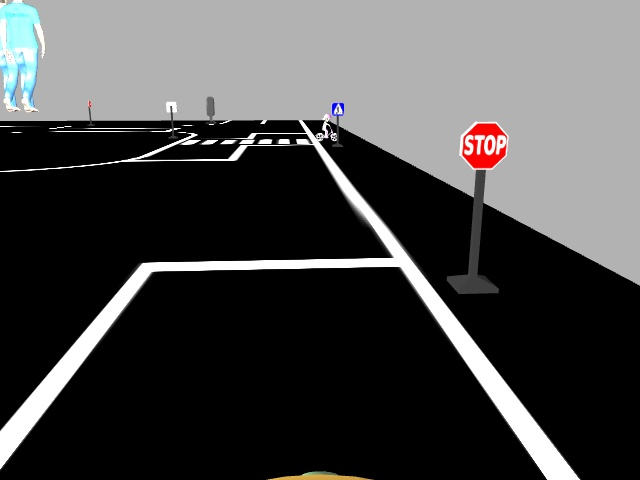Stop: (458, 119, 510, 170)
